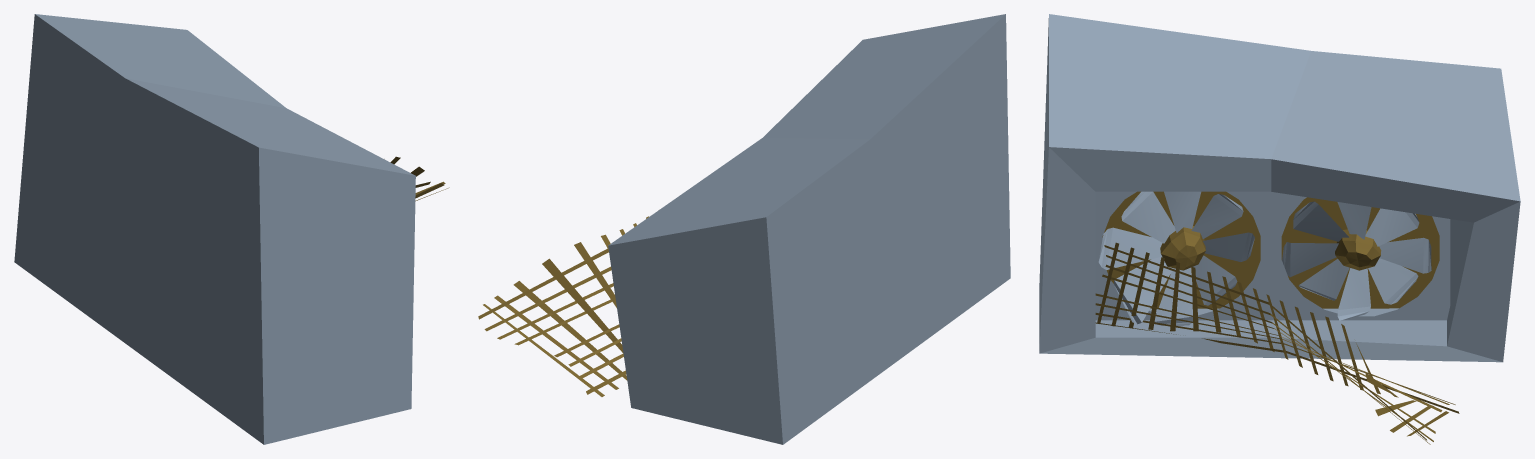
The model's file is Track_full_002_track_001.fbx.
The picture shows the model from 3 angles, left to right: view 1: azimuth 30°, elevation 25°; view 2: azimuth 150°, elevation 25°; view 3: azimuth 270°, elevation 25°; orthographic projection. The views are drawn at different scales.
Parts seen in each view (by area): view 1: Track_full.002.track.001; view 2: Track_full.002.track.001; view 3: Track_full.002.track.001.
Boxes of the visible parts, box(x1,y1,x2,y2) form: Track_full.002.track.001: box(14, 14, 449, 444); Track_full.002.track.001: box(478, 14, 1010, 444); Track_full.002.track.001: box(1039, 14, 1520, 444).
Bounding box in the file's own units: 1.33 × 1.07 × 1.58.
